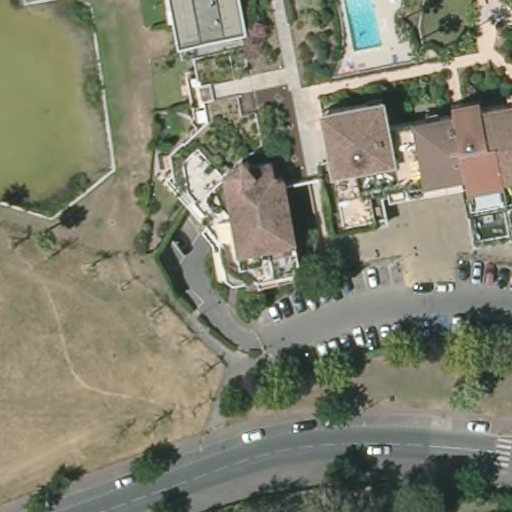pool: (344, 1, 387, 54)
